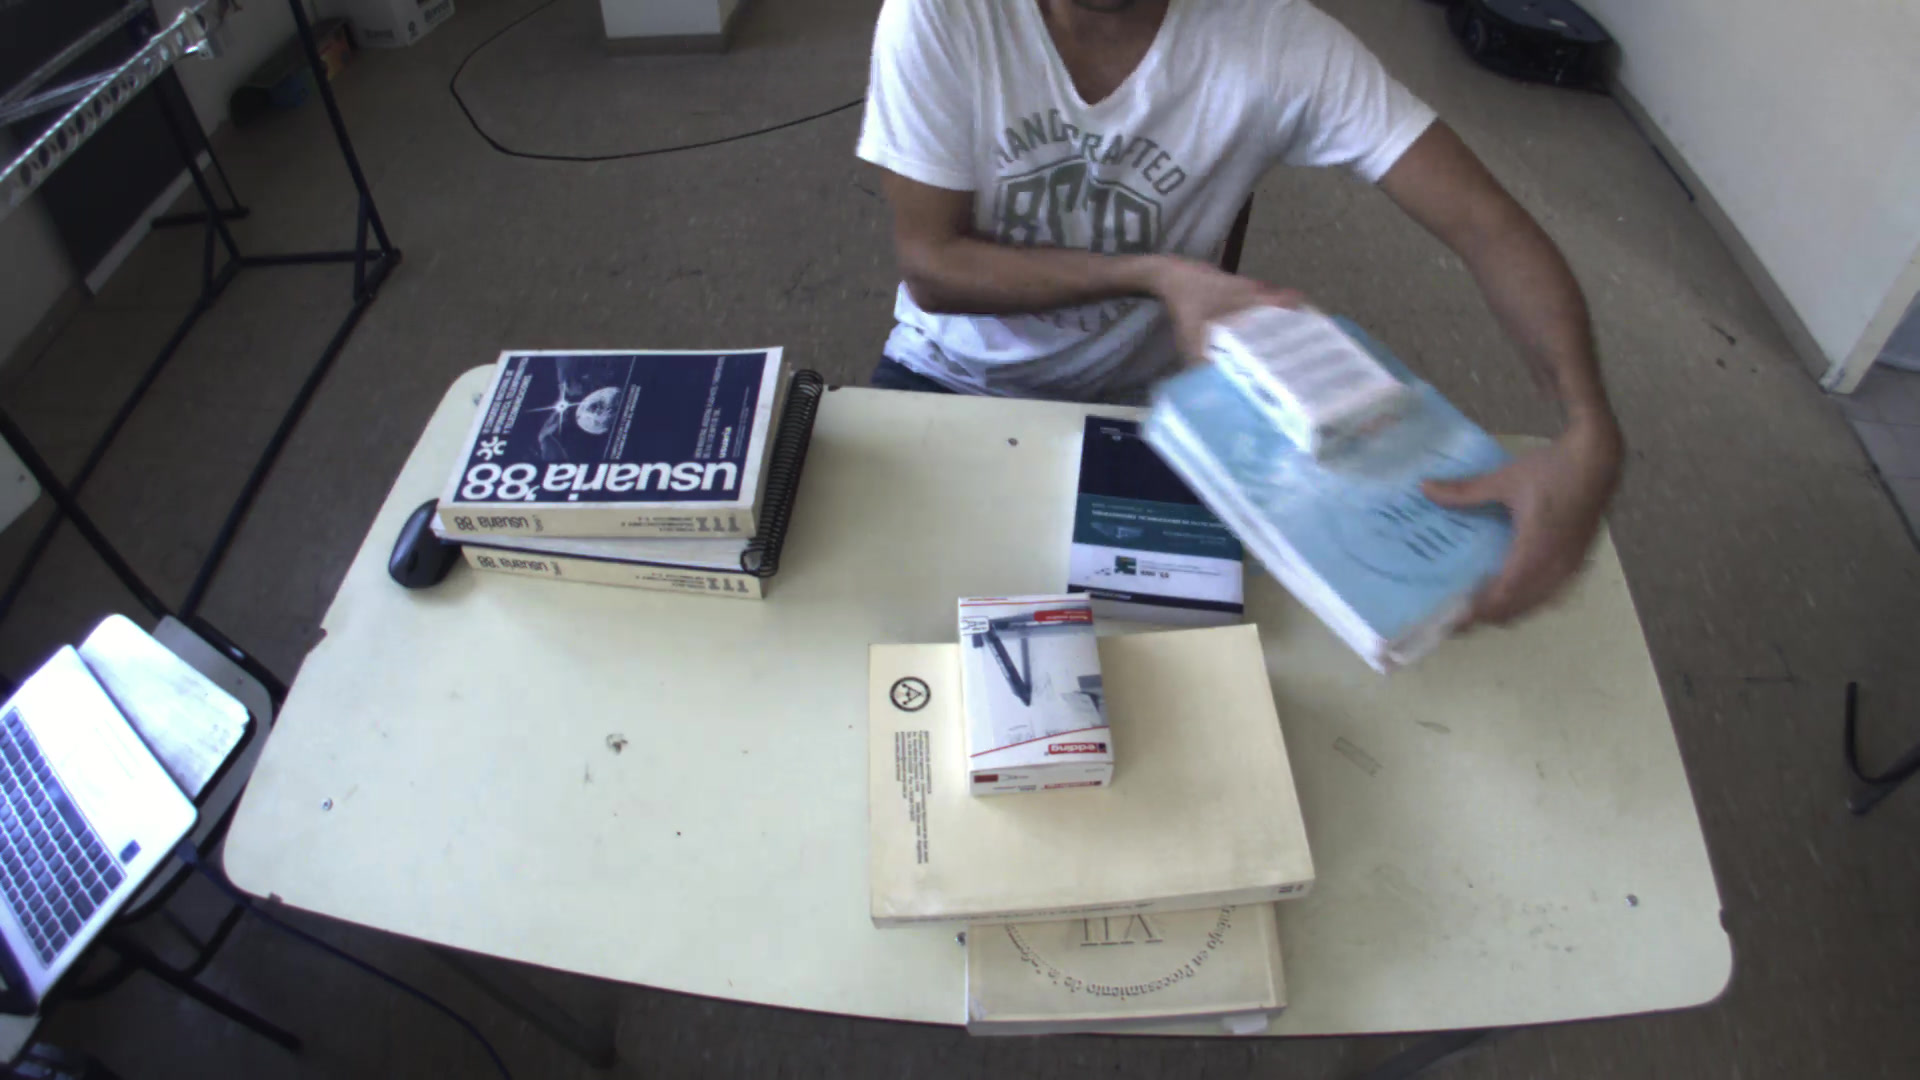hand: (1404, 430, 1619, 632), (1135, 247, 1295, 356)
